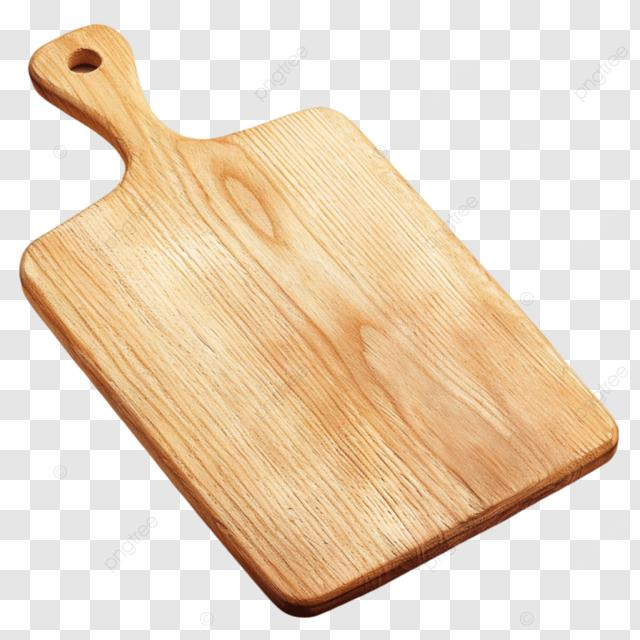Talenan: (8, 28, 627, 622)
